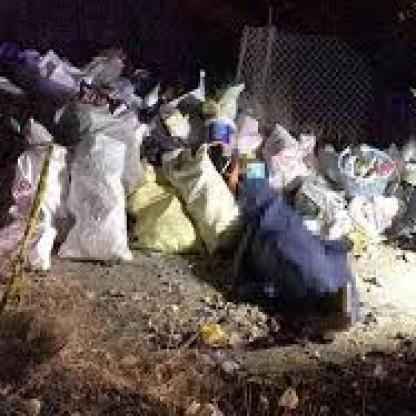Garbage: (340, 141, 394, 213), (389, 184, 414, 262), (206, 324, 240, 350)
